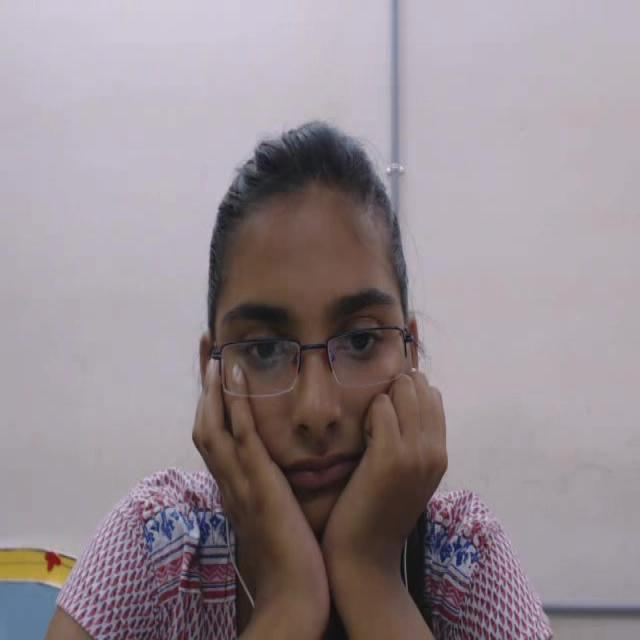Bored: (172, 104, 446, 545)
